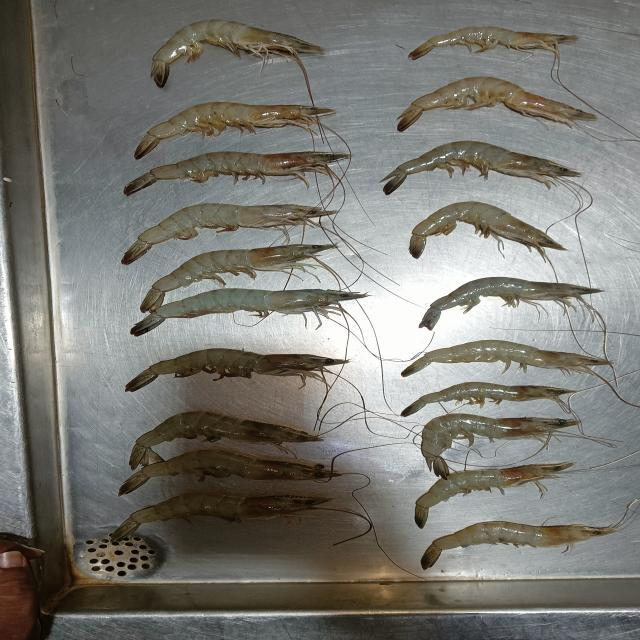shrimp: (139, 244, 336, 312), (122, 203, 331, 263), (151, 20, 323, 86), (128, 411, 319, 470), (131, 289, 367, 336), (134, 102, 334, 157), (111, 492, 330, 541), (397, 76, 595, 130), (384, 141, 579, 193), (420, 414, 579, 477), (120, 450, 341, 495), (417, 461, 571, 525), (125, 152, 348, 194), (127, 348, 345, 390), (418, 277, 601, 327), (422, 522, 615, 568), (410, 201, 564, 258), (402, 341, 610, 375), (402, 382, 576, 415), (410, 27, 578, 59)
